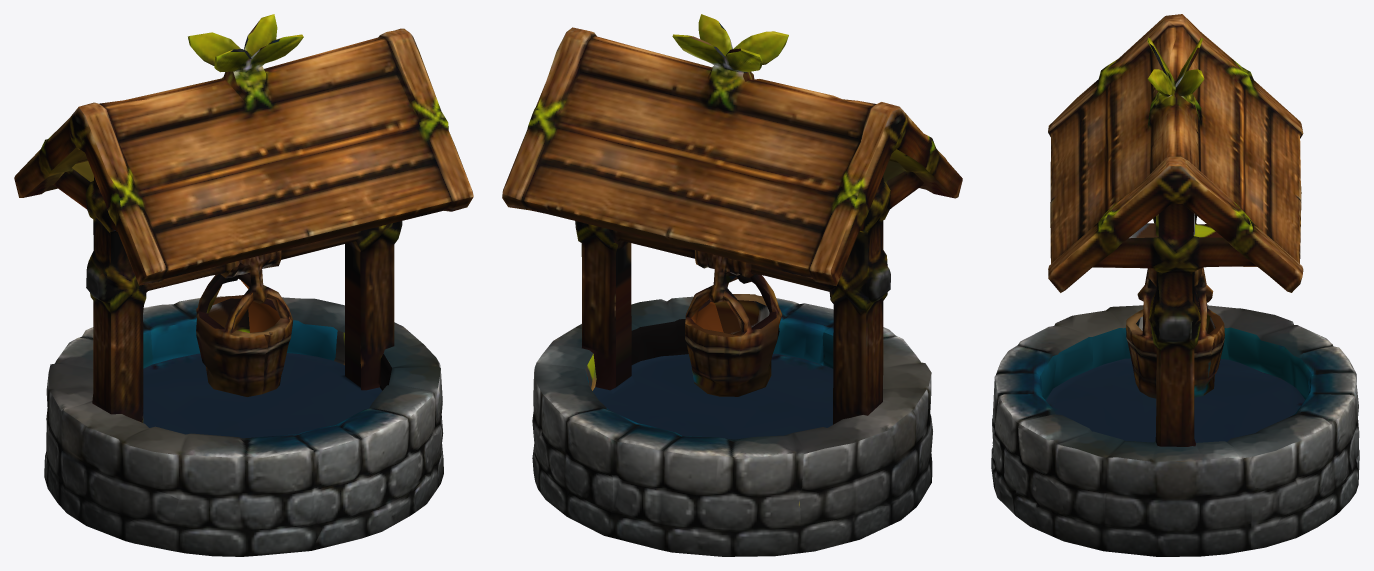
Rendered from WaterWell.glb.
The picture shows the model from 3 angles, left to right: view 1: azimuth 30°, elevation 25°; view 2: azimuth 150°, elevation 25°; view 3: azimuth 270°, elevation 25°; orthographic projection. The views are drawn at different scales.
Size of the model in its own units: 1.64 by 1.99 by 1.57.
1 material, 1 textured.
